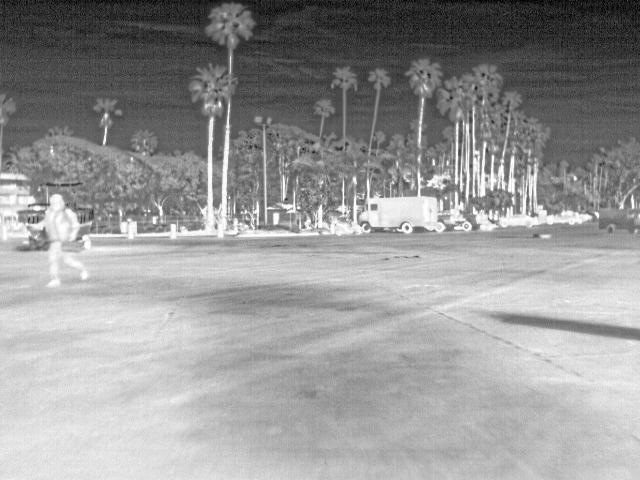car: (597, 207, 640, 234), (546, 209, 582, 226), (499, 212, 538, 226), (438, 214, 459, 232), (454, 214, 475, 230)
person: (46, 192, 74, 289)
